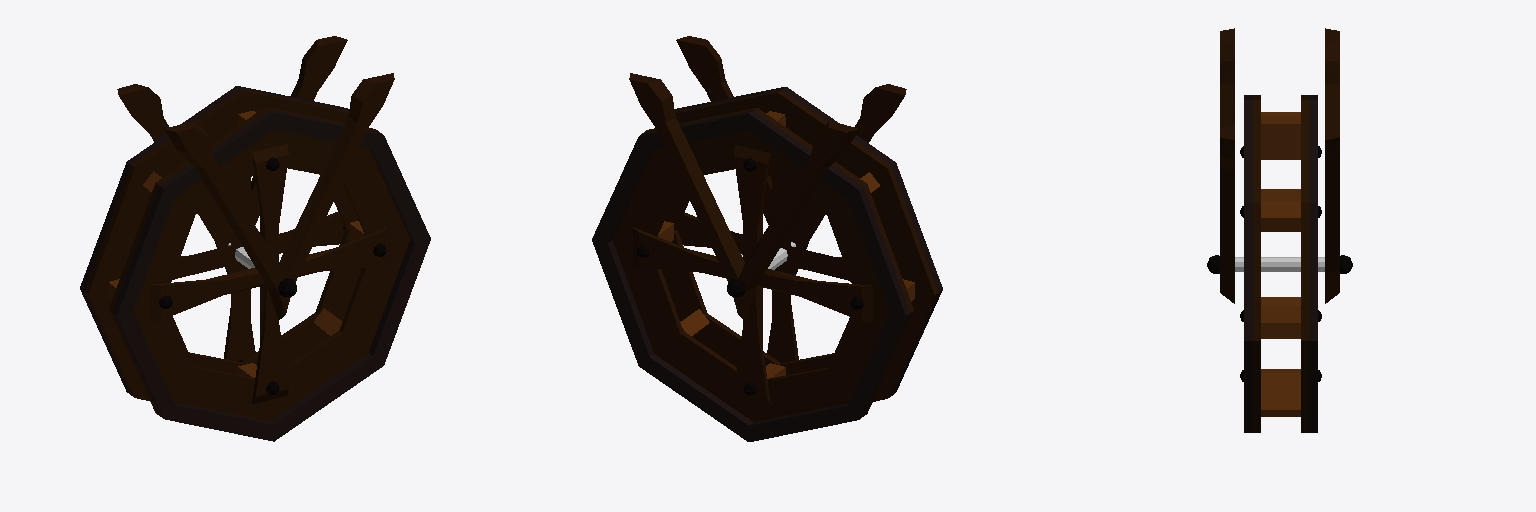
File: watermill.obj
3 renders of one model, left to right at view 1: azimuth 30°, elevation 25°; view 2: azimuth 150°, elevation 25°; view 3: azimuth 270°, elevation 25°, orthographic.
Visible parts, largest first — view 1: Plane.001_Plane.006, Plane.003_Plane.004, Plane.002_Plane.003, Cube.003_Cube.004, Cube.005_Cube.006; view 2: Plane.001_Plane.006, Plane.003_Plane.004, Plane.002_Plane.003, Cube.003_Cube.004, Cube.005_Cube.006; view 3: Plane.001_Plane.006, Plane.003_Plane.004, Cube.003_Cube.004, Plane.006_Plane.008, Cube.005_Cube.006.
Boxes of the visible parts, <box> form: Plane.001_Plane.006: <box>80,86,430,441</box>; Plane.003_Plane.004: <box>117,36,394,319</box>; Plane.002_Plane.003: <box>149,144,389,403</box>; Cube.003_Cube.004: <box>108,111,364,377</box>; Cube.005_Cube.006: <box>159,157,386,394</box>; Plane.001_Plane.006: <box>592,87,942,441</box>; Plane.003_Plane.004: <box>629,36,906,319</box>; Plane.002_Plane.003: <box>633,145,872,404</box>; Cube.003_Cube.004: <box>658,111,914,378</box>; Cube.005_Cube.006: <box>636,158,863,395</box>; Plane.001_Plane.006: <box>1244,95,1317,432</box>; Plane.003_Plane.004: <box>1220,28,1339,303</box>; Cube.003_Cube.004: <box>1261,112,1300,416</box>; Plane.006_Plane.008: <box>1235,257,1324,271</box>; Cube.005_Cube.006: <box>1207,146,1352,381</box>.
Bounding box in the file's own units: 10.39 × 10.9 × 4.21.